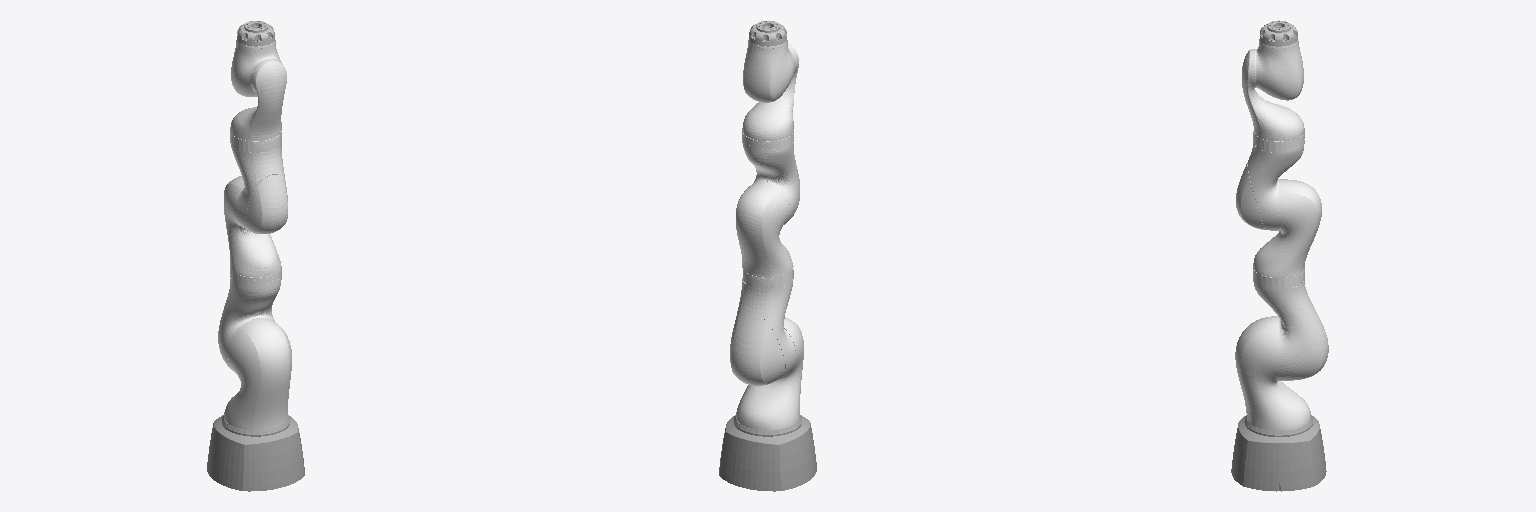
robot.urdf — robert_matlab:
<?xml version="1.0" encoding="utf-8"?>
<!-- This URDF was automatically created by SolidWorks to URDF Exporter! Originally created by [author] ([email redacted]) 
     Commit Version: 1.5.1-0-g916b5db  Build Version: 1.5.7152.31018
     For more information, please see http://wiki.ros.org/sw_urdf_exporter -->
<robot
  name="robert_matlab">
  <link
    name="LBRMed_base">
    <inertial>
      <origin
        xyz="0.2131 -4.9123E-05 -0.27948"
        rpy="0 0 0" />
      <mass
        value="25.45" />
      <inertia
        ixx="0.69898"
        ixy="-0.00060602"
        ixz="0.023105"
        iyy="0.50672"
        iyz="0.00010259"
        izz="0.72227" />
    </inertial>
    <visual>
      <origin
        xyz="0 0 0"
        rpy="0 0 0" />
      <geometry>
        <mesh
          filename="LBRMed_base.STL" />
      </geometry>
      <material
        name="">
        <color
          rgba="0.7 0.7 0.7 1" />
      </material>
    </visual>
    <collision>
      <origin
        xyz="0 0 0"
        rpy="0 0 0" />
      <geometry>
        <mesh
          filename="LBRMed_base.STL" />
      </geometry>
    </collision>
  </link>
  <link
    name="LBRMed_shoulder">
    <inertial>
      <origin
        xyz="-1.0921E-06 -0.033794 0.1277"
        rpy="0 0 0" />
      <mass
        value="4.1086" />
      <inertia
        ixx="0.032982"
        ixy="4.1814E-08"
        ixz="3.7416E-07"
        iyy="0.033274"
        iyz="0.0049257"
        izz="0.012326" />
    </inertial>
    <visual>
      <origin
        xyz="0 0 0"
        rpy="0 0 0" />
      <geometry>
        <mesh
          filename="LBRMed_shoulder.STL" />
      </geometry>
      <material
        name="">
        <color
          rgba="0.95 0.95 0.95 1" />
      </material>
    </visual>
    <collision>
      <origin
        xyz="0 0 0"
        rpy="0 0 0" />
      <geometry>
        <mesh
          filename="LBRMed_shoulder.STL" />
      </geometry>
    </collision>
  </link>
  <joint
    name="LBRMed_joint1"
    type="revolute">
    <origin
      xyz="0 0 0.1522"
      rpy="0 0 0" />
    <parent
      link="LBRMed_base" />
    <child
      link="LBRMed_shoulder" />
    <axis
      xyz="0 0 -1" />
    <limit
      lower="-2.967"
      upper="2.967"
      effort="10"
      velocity="3" />
  </joint>
  <link
    name="LBRMed_lower_arm">
    <inertial>
      <origin
        xyz="0.00013064 -0.07633 0.037544"
        rpy="0 0 0" />
      <mass
        value="4.4185" />
      <inertia
        ixx="0.04286"
        ixy="-4.2906E-05"
        ixz="-2.4964E-05"
        iyy="0.012833"
        iyz="-0.0077921"
        izz="0.041927" />
    </inertial>
    <visual>
      <origin
        xyz="0 0 0"
        rpy="0 0 0" />
      <geometry>
        <mesh
          filename="LBRMed_lower_arm.STL" />
      </geometry>
      <material
        name="">
        <color
          rgba="0.95 0.95 0.95 1" />
      </material>
    </visual>
    <collision>
      <origin
        xyz="0 0 0"
        rpy="0 0 0" />
      <geometry>
        <mesh
          filename="LBRMed_lower_arm.STL" />
      </geometry>
    </collision>
  </link>
  <joint
    name="LBRMed_joint2"
    type="revolute">
    <origin
      xyz="0 0 0.2078"
      rpy="-1.5708 0 0" />
    <parent
      link="LBRMed_shoulder" />
    <child
      link="LBRMed_lower_arm" />
    <axis
      xyz="0 0 -1" />
    <limit
      lower="-2.0943"
      upper="2.0943"
      effort="10"
      velocity="3" />
  </joint>
  <link
    name="LBRMed_elbow">
    <inertial>
      <origin
        xyz="1.8351E-06 0.034909 0.11381"
        rpy="0 0 0" />
      <mass
        value="2.6884" />
      <inertia
        ixx="0.016871"
        ixy="9.3037E-08"
        ixz="-1.4954E-07"
        iyy="0.016102"
        iyz="-0.0029863"
        izz="0.005981" />
    </inertial>
    <visual>
      <origin
        xyz="0 0 0"
        rpy="0 0 0" />
      <geometry>
        <mesh
          filename="LBRMed_elbow.STL" />
      </geometry>
      <material
        name="">
        <color
          rgba="0.95 0.95 0.95 1" />
      </material>
    </visual>
    <collision>
      <origin
        xyz="0 0 0"
        rpy="0 0 0" />
      <geometry>
        <mesh
          filename="LBRMed_elbow.STL" />
      </geometry>
    </collision>
  </link>
  <joint
    name="LBRMed_joint3"
    type="revolute">
    <origin
      xyz="0 -0.2373 0"
      rpy="1.5708 0 0" />
    <parent
      link="LBRMed_lower_arm" />
    <child
      link="LBRMed_elbow" />
    <axis
      xyz="0 0 -1" />
    <limit
      lower="-2.967"
      upper="2.967"
      effort="10"
      velocity="3" />
  </joint>
  <link
    name="LBRMed_upper_arm">
    <inertial>
      <origin
        xyz="-7.4267E-08 0.086942 0.02979"
        rpy="0 0 0" />
      <mass
        value="3.2026" />
      <inertia
        ixx="0.025176"
        ixy="-7.1194E-09"
        ixz="2.082E-07"
        iyy="0.0076769"
        iyz="0.004677"
        izz="0.023892" />
    </inertial>
    <visual>
      <origin
        xyz="0 0 0"
        rpy="0 0 0" />
      <geometry>
        <mesh
          filename="LBRMed_upper_arm.STL" />
      </geometry>
      <material
        name="">
        <color
          rgba="0.95 0.95 0.95 1" />
      </material>
    </visual>
    <collision>
      <origin
        xyz="0 0 0"
        rpy="0 0 0" />
      <geometry>
        <mesh
          filename="LBRMed_upper_arm.STL" />
      </geometry>
    </collision>
  </link>
  <joint
    name="LBRMed_joint4"
    type="revolute">
    <origin
      xyz="0 0.0005 0.1827"
      rpy="1.5708 0 0" />
    <parent
      link="LBRMed_elbow" />
    <child
      link="LBRMed_upper_arm" />
    <axis
      xyz="0 0 -1" />
    <limit
      lower="-2.0943"
      upper="2.0943"
      effort="10"
      velocity="3" />
  </joint>
  <link
    name="LBRMed_wrist1">
    <inertial>
      <origin
        xyz="9.5299E-07 -0.029822 0.066966"
        rpy="0 0 0" />
      <mass
        value="1.2146" />
      <inertia
        ixx="0.0067395"
        ixy="2.5619E-08"
        ixz="8.1707E-09"
        iyy="0.0056681"
        iyz="0.0022283"
        izz="0.0030564" />
    </inertial>
    <visual>
      <origin
        xyz="0 0 0"
        rpy="0 0 0" />
      <geometry>
        <mesh
          filename="LBRMed_wrist1.STL" />
      </geometry>
      <material
        name="">
        <color
          rgba="0.95 0.95 0.95 1" />
      </material>
    </visual>
    <collision>
      <origin
        xyz="0 0 0"
        rpy="0 0 0" />
      <geometry>
        <mesh
          filename="LBRMed_wrist1.STL" />
      </geometry>
    </collision>
  </link>
  <joint
    name="LBRMed_joint5"
    type="revolute">
    <origin
      xyz="0 0.2168 0.0005"
      rpy="-1.5708 0 0" />
    <parent
      link="LBRMed_upper_arm" />
    <child
      link="LBRMed_wrist1" />
    <axis
      xyz="0 0 -1" />
    <limit
      lower="-2.967"
      upper="2.967"
      effort="10"
      velocity="3" />
  </joint>
  <link
    name="LBRMed_wrist2">
    <inertial>
      <origin
        xyz="1.7505E-06 -0.0049557 0.061029"
        rpy="0 0 0" />
      <mass
        value="1.9087" />
      <inertia
        ixx="0.0056122"
        ixy="-3.928E-08"
        ixz="4.0496E-07"
        iyy="0.0036753"
        iyz="-0.00024707"
        izz="0.0054041" />
    </inertial>
    <visual>
      <origin
        xyz="0 0 0"
        rpy="0 0 0" />
      <geometry>
        <mesh
          filename="LBRMed_wrist2.STL" />
      </geometry>
      <material
        name="">
        <color
          rgba="0.95 0.95 0.95 1" />
      </material>
    </visual>
    <collision>
      <origin
        xyz="0 0 0"
        rpy="0 0 0" />
      <geometry>
        <mesh
          filename="LBRMed_wrist2.STL" />
      </geometry>
    </collision>
  </link>
  <joint
    name="LBRMed_joint6"
    type="revolute">
    <origin
      xyz="0 -0.0607 0.1832"
      rpy="-1.5708 0 0" />
    <parent
      link="LBRMed_wrist1" />
    <child
      link="LBRMed_wrist2" />
    <axis
      xyz="0 0 -1" />
    <limit
      lower="-2.0943"
      upper="2.0943"
      effort="10"
      velocity="3.1416" />
  </joint>
  <link
    name="LBRMed_wrist3">
    <inertial>
      <origin
        xyz="-0.012715 -0.00043181 0.049619"
        rpy="0 0 0" />
      <mass
        value="0.54635" />
      <inertia
        ixx="0.00037819"
        ixy="1.2603E-06"
        ixz="-3.7573E-05"
        iyy="0.00040523"
        iyz="-8.2175E-07"
        izz="0.00048831" />
    </inertial>
    <visual>
      <origin
        xyz="0 0 0"
        rpy="0 0 0" />
      <geometry>
        <mesh
          filename="LBRMed_wrist3.STL" />
      </geometry>
      <material
        name="">
        <color
          rgba="0.8 0.8 0.8 1" />
      </material>
    </visual>
    <collision>
      <origin
        xyz="0 0 0"
        rpy="0 0 0" />
      <geometry>
        <mesh
          filename="LBRMed_wrist3.STL" />
      </geometry>
    </collision>
  </link>
  <joint
    name="LBRMed_joint7"
    type="revolute">
    <origin
      xyz="3.3739E-05 -0.091 0.060728"
      rpy="1.5708 0 0" />
    <parent
      link="LBRMed_wrist2" />
    <child
      link="LBRMed_wrist3" />
    <axis
      xyz="0 0 -1" />
    <limit
      lower="-3.0543"
      upper="3.0543"
      effort="10"
      velocity="3" />
  </joint>
</robot>

--- Facts derived from the render (not from the file) ---
3 views of the same robot in one strip: view 1: azimuth 30°, elevation 25°; view 2: azimuth 150°, elevation 25°; view 3: azimuth 270°, elevation 25° (orthographic).
Model robert_matlab with 8 links and 7 joints (7 revolute), rooted at LBRMed_base, posed all joints at 0.
Links seen in each view (by area): view 1: LBRMed_shoulder, LBRMed_base, LBRMed_upper_arm, LBRMed_wrist1, LBRMed_lower_arm, LBRMed_elbow, LBRMed_wrist2, LBRMed_wrist3; view 2: LBRMed_lower_arm, LBRMed_base, LBRMed_elbow, LBRMed_shoulder, LBRMed_wrist2, LBRMed_upper_arm, LBRMed_wrist1, LBRMed_wrist3; view 3: LBRMed_base, LBRMed_shoulder, LBRMed_lower_arm, LBRMed_elbow, LBRMed_upper_arm, LBRMed_wrist1, LBRMed_wrist2, LBRMed_wrist3.
Boxes of the visible links, <box> form: LBRMed_shoulder: <box>224,318,291,430</box>; LBRMed_base: <box>207,415,304,491</box>; LBRMed_upper_arm: <box>230,131,287,233</box>; LBRMed_wrist1: <box>230,59,286,140</box>; LBRMed_lower_arm: <box>218,267,281,370</box>; LBRMed_elbow: <box>224,176,281,277</box>; LBRMed_wrist2: <box>231,40,281,96</box>; LBRMed_wrist3: <box>237,21,274,46</box>; LBRMed_lower_arm: <box>730,270,795,385</box>; LBRMed_base: <box>719,415,816,491</box>; LBRMed_elbow: <box>736,181,793,277</box>; LBRMed_shoulder: <box>736,317,803,430</box>; LBRMed_wrist2: <box>743,40,795,102</box>; LBRMed_upper_arm: <box>742,130,799,224</box>; LBRMed_wrist1: <box>742,43,798,140</box>; LBRMed_wrist3: <box>749,21,786,46</box>; LBRMed_base: <box>1231,415,1326,491</box>; LBRMed_shoulder: <box>1235,316,1310,430</box>; LBRMed_lower_arm: <box>1253,268,1328,380</box>; LBRMed_elbow: <box>1253,179,1321,277</box>; LBRMed_upper_arm: <box>1236,130,1304,230</box>; LBRMed_wrist1: <box>1242,49,1304,141</box>; LBRMed_wrist2: <box>1256,39,1303,100</box>; LBRMed_wrist3: <box>1260,20,1297,46</box>.
Bounding box of the posed robot: 0.2527 × 0.2585 × 1.31 m (x, y, z).
8 mesh visuals loaded from 8 distinct referenced files (8 binary STL).
